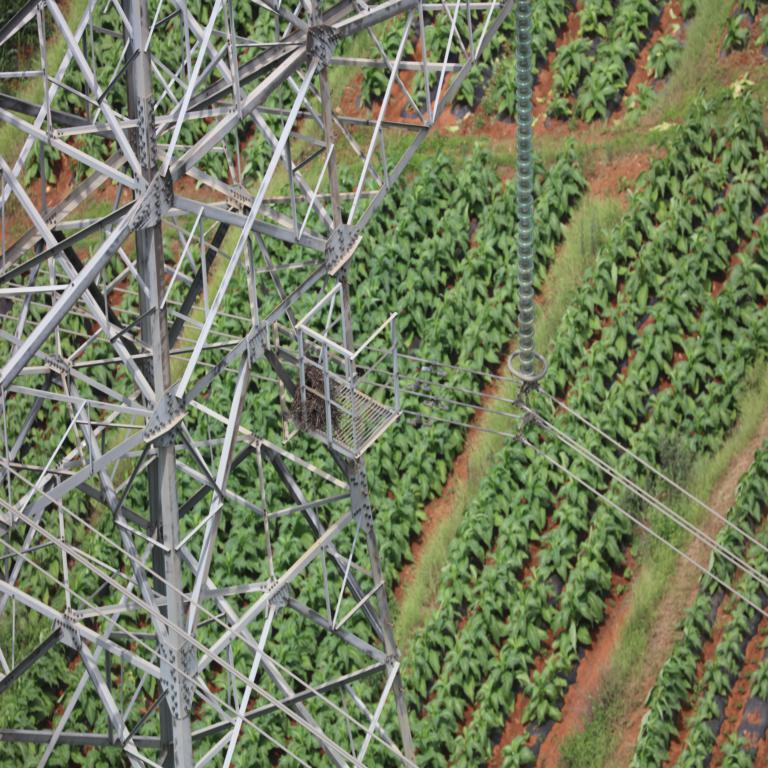nest: (290, 367, 339, 430)
